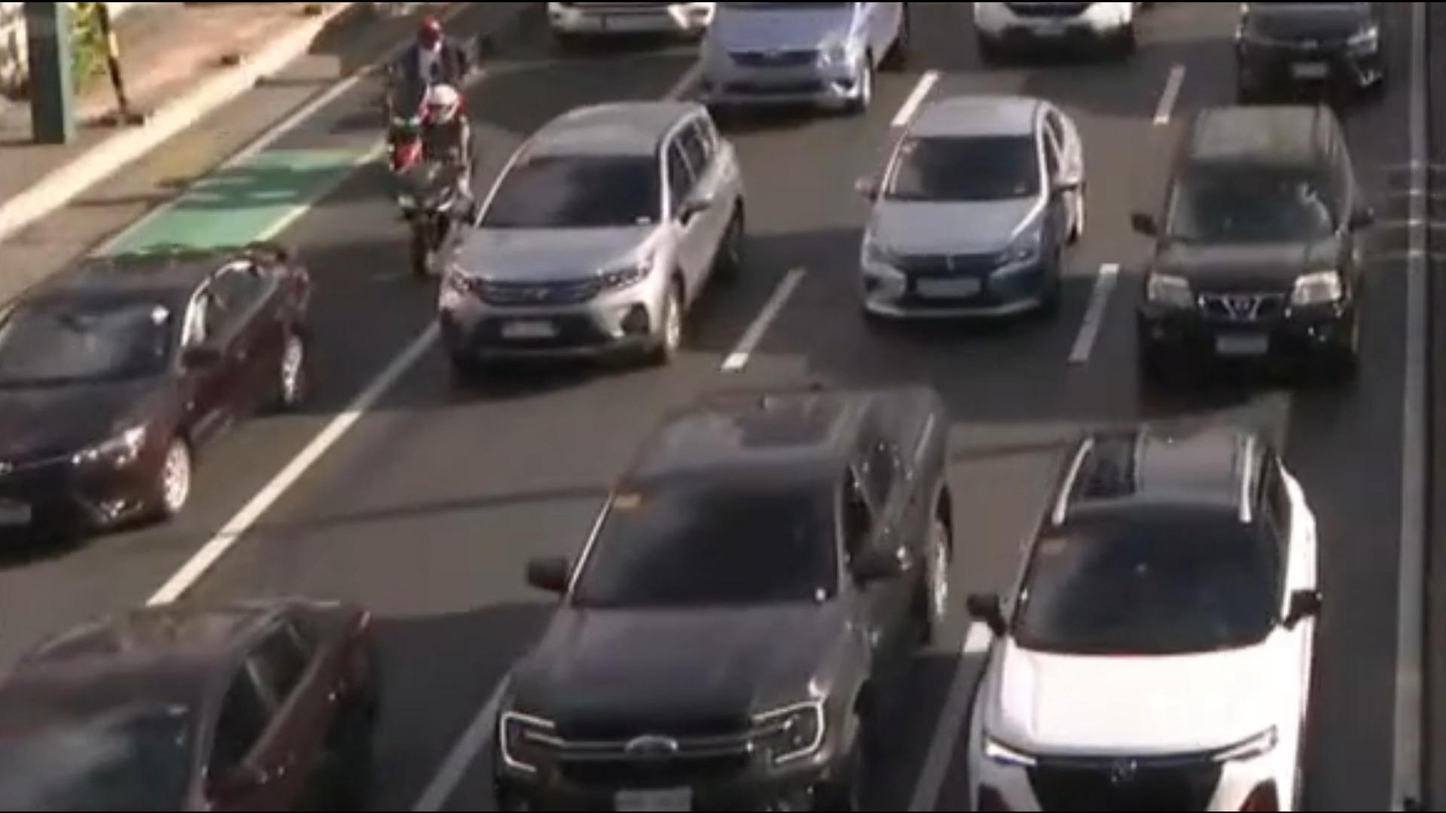Motorcycle: (369, 78, 501, 285), (359, 4, 477, 182)
Pickup: (445, 339, 1021, 813)
SUV: (945, 397, 1360, 813), (384, 79, 772, 404), (1105, 74, 1407, 396)
Sedan: (0, 546, 462, 813), (0, 207, 330, 544), (852, 81, 1119, 331)
